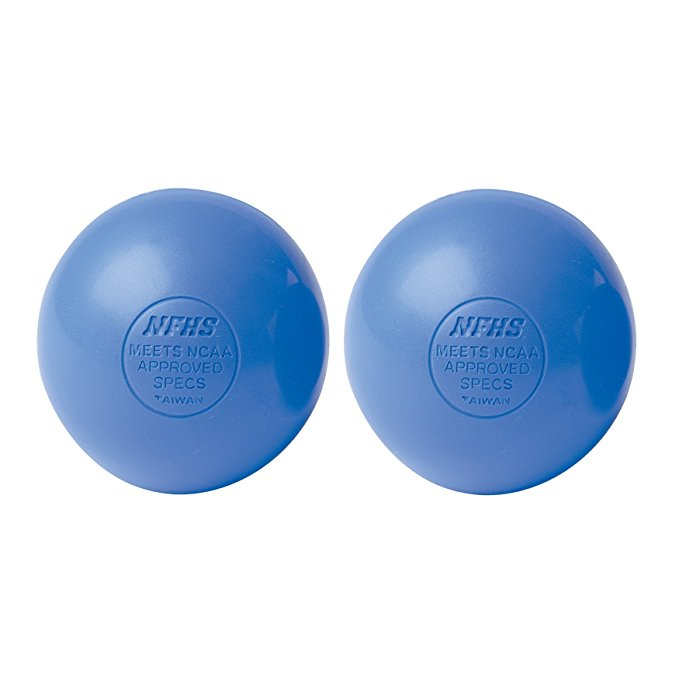blue ball: (342, 186, 638, 496), (35, 188, 331, 496)
